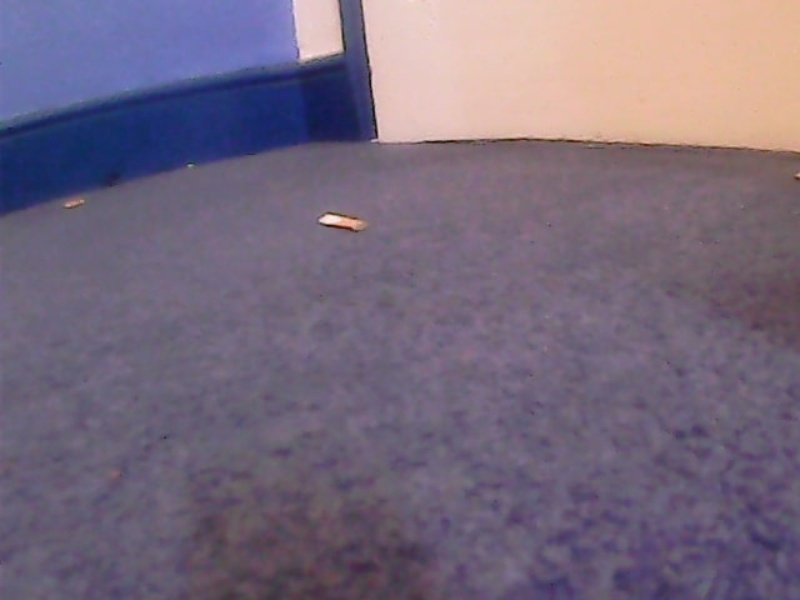cig: (317, 206, 371, 237), (64, 197, 87, 209)
